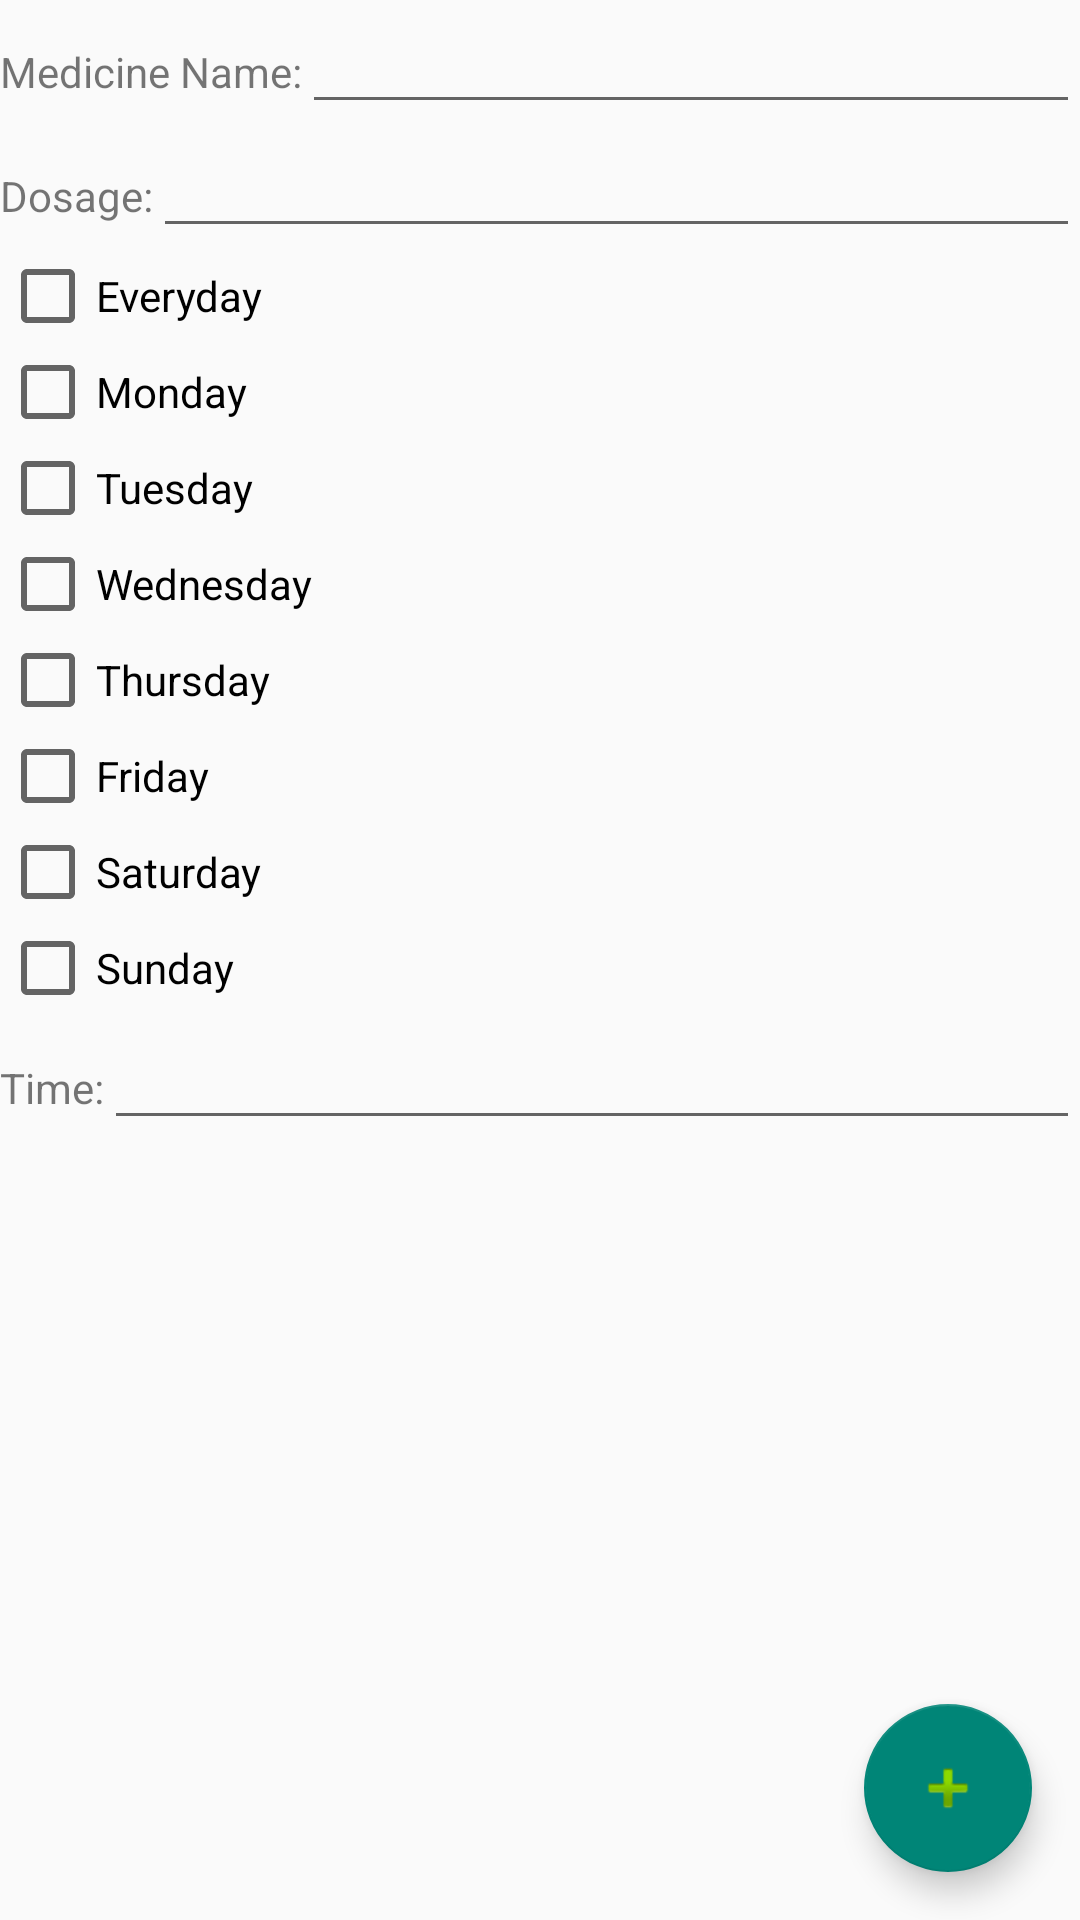

Locate icon controls on the screen. Image size 1080 × 1920, boxes as BBox(x1, y1, x2, y2).
Add Medicine: BBox(864, 1704, 1032, 1872)
